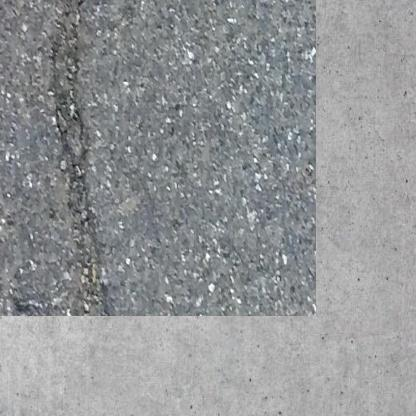Cracks: (45, 0, 105, 292)
